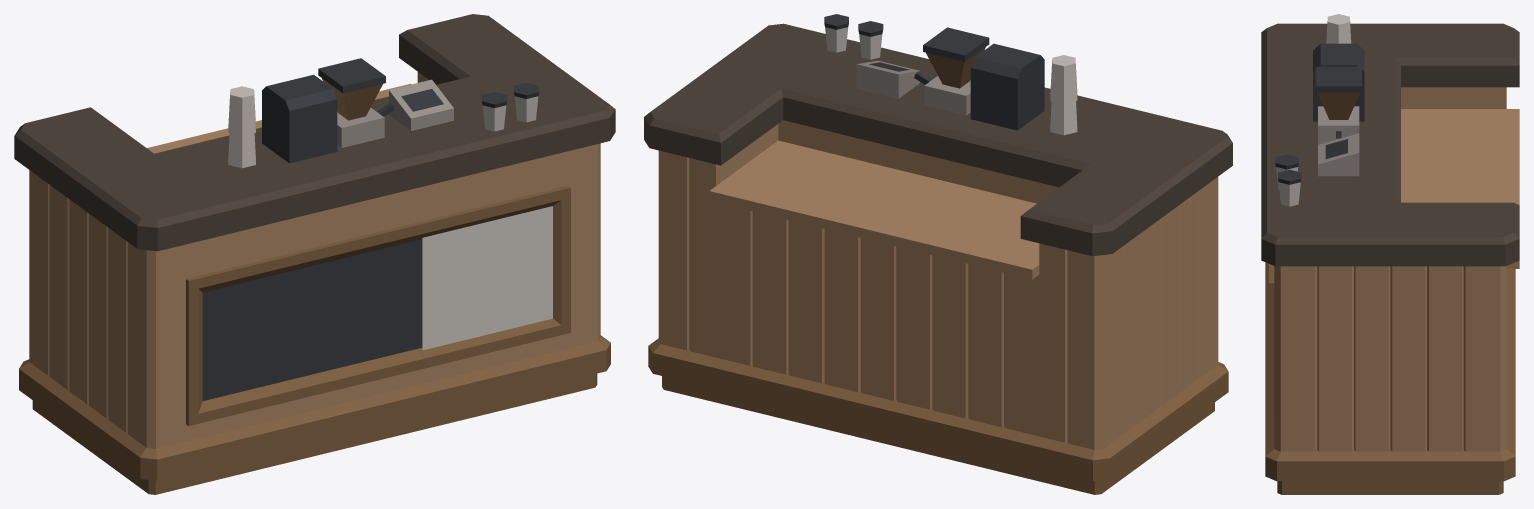
Rendered from cafe-counter-d8b226.glb.
The picture shows the model from 3 angles, left to right: view 1: azimuth 30°, elevation 25°; view 2: azimuth 150°, elevation 25°; view 3: azimuth 270°, elevation 25°; orthographic projection. The views are drawn at different scales.
Visible parts, largest first — view 1: counter, serveware-mesh; view 2: counter, serveware-mesh; view 3: counter, serveware-mesh.
Part boxes in pixels (x1,y1,x2,y2): counter: [14, 14, 615, 494]; serveware-mesh: [228, 83, 539, 168]; counter: [644, 23, 1232, 494]; serveware-mesh: [824, 14, 1077, 135]; counter: [1261, 23, 1519, 494]; serveware-mesh: [1275, 14, 1351, 206].
Size of the model in its own units: 2 by 1.4 by 1.
